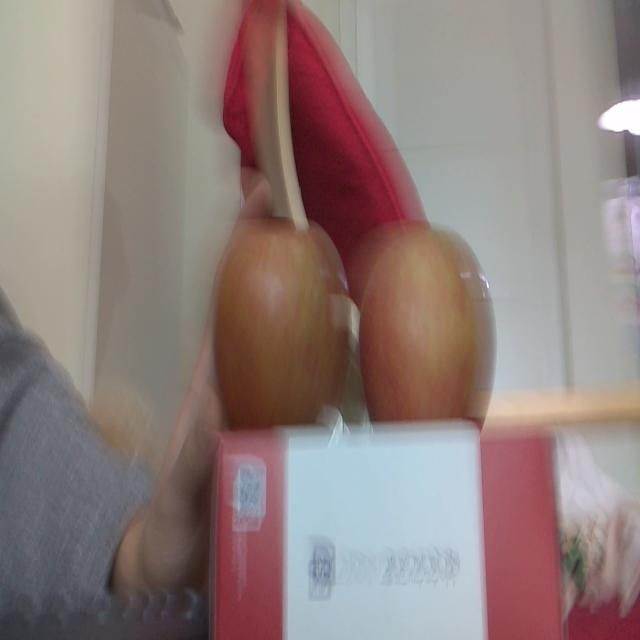apple: (215, 221, 349, 424), (359, 225, 498, 417)
